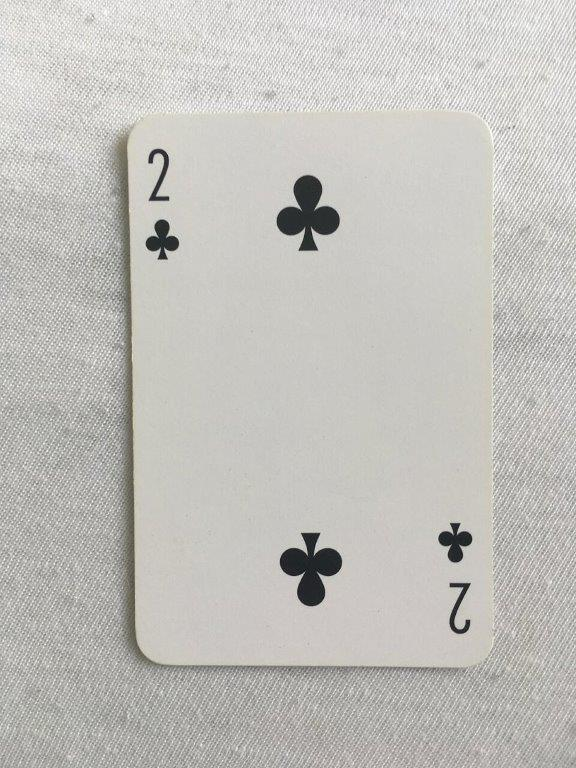2C: (123, 107, 500, 673)
